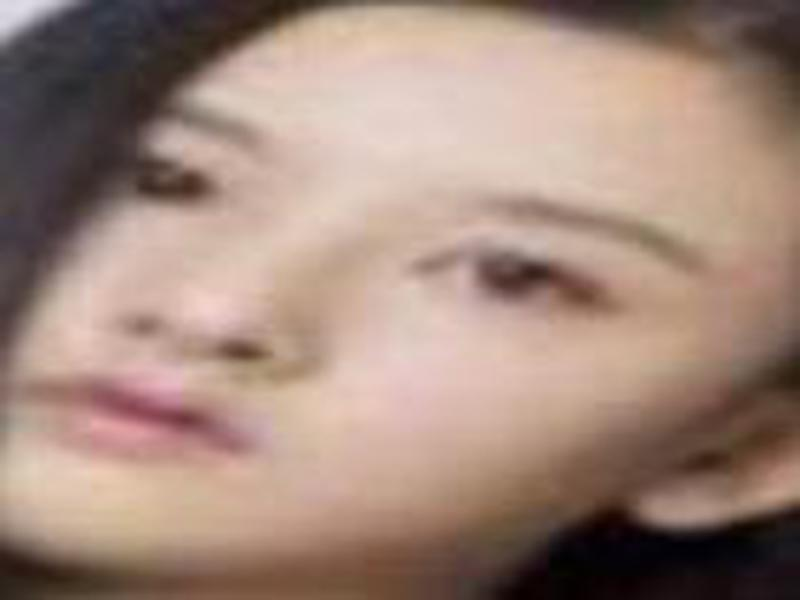without_mask: (4, 40, 723, 578)
